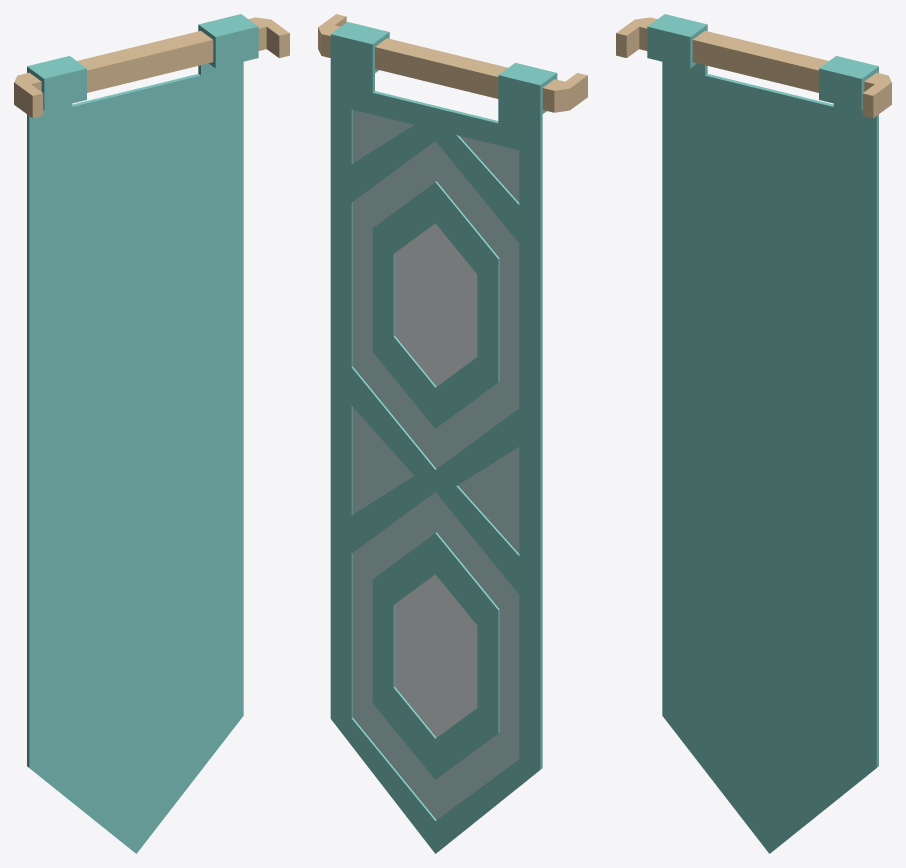
Rendered from Prop_Flag_3.glb.
3 views of the same model, side by side, from view 1: azimuth 30°, elevation 25°; view 2: azimuth 150°, elevation 25°; view 3: azimuth 330°, elevation 25° (orthographic). The views are drawn at different scales.
Visible parts, largest first — view 1: Prop_Flag_3; view 2: Prop_Flag_3; view 3: Prop_Flag_3.
Part boxes in pixels (x1=…): Prop_Flag_3: x1=14, y1=14, x2=289, y2=853; Prop_Flag_3: x1=318, y1=14, x2=587, y2=853; Prop_Flag_3: x1=616, y1=14, x2=891, y2=853.
Size of the model in its own units: 0.54 by 1.63 by 0.099.
